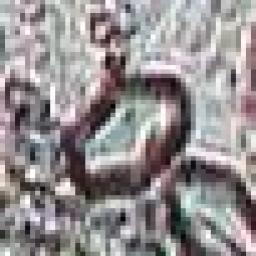crystals: (59, 70, 196, 205)
